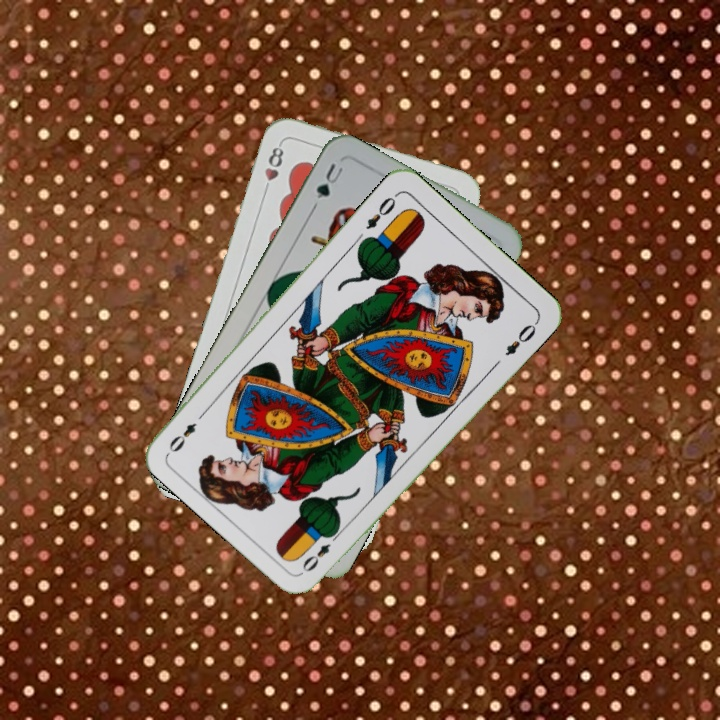EO: (298, 526, 343, 575), (362, 189, 401, 232)
GU: (312, 159, 346, 202)
H8: (259, 139, 287, 197)
